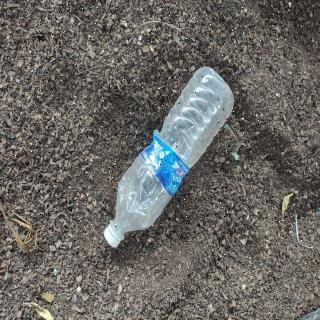Plastic-bottle: (102, 64, 238, 253)
